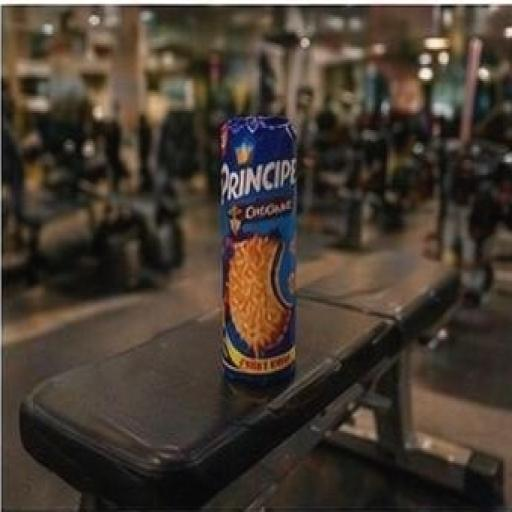prince: (188, 66, 410, 414)
